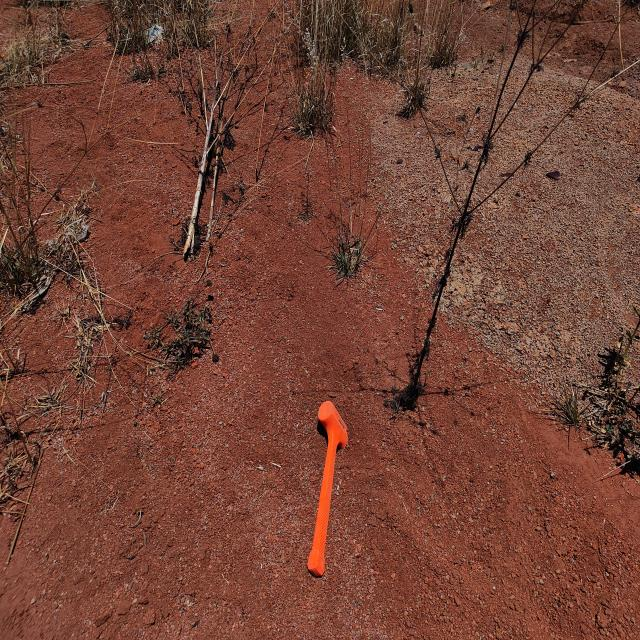Orange_hammer: (306, 400, 348, 577)
